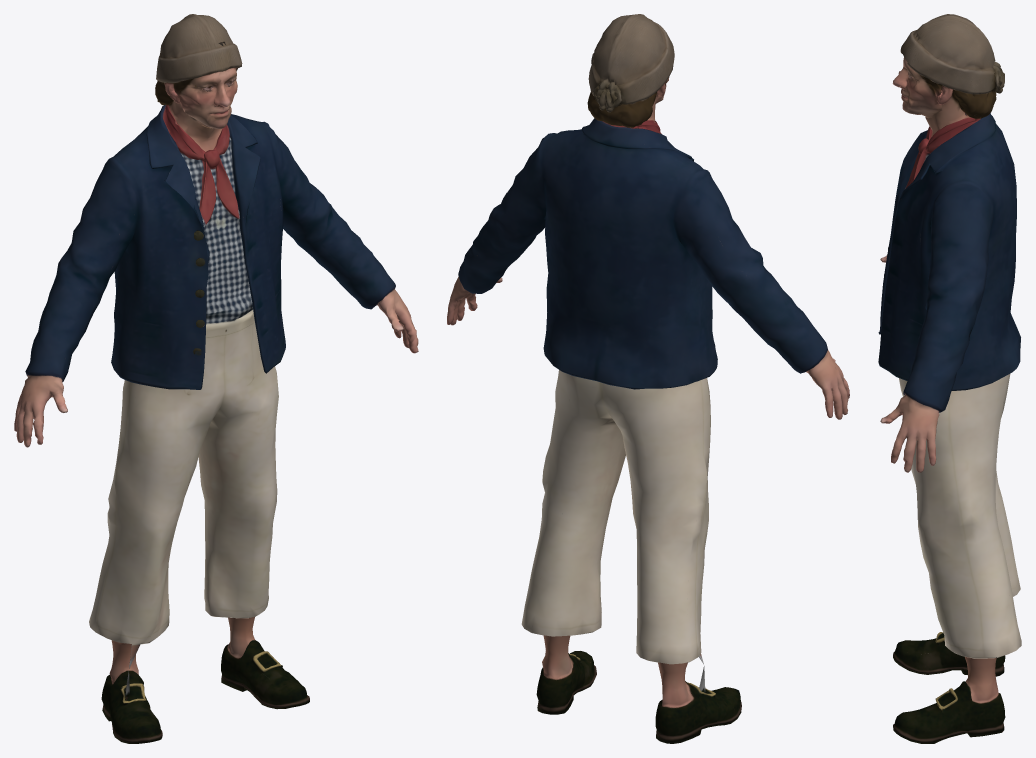
Rendered from seaman_textured.glb.
3 views of the same model, side by side, from view 1: azimuth 30°, elevation 25°; view 2: azimuth 150°, elevation 25°; view 3: azimuth 270°, elevation 25° (orthographic).
Visible parts, largest first — view 1: geometry_0; view 2: geometry_0; view 3: geometry_0.
Part boxes in pixels (x1=…): geometry_0: x1=14, y1=14, x2=418, y2=743; geometry_0: x1=447, y1=14, x2=849, y2=743; geometry_0: x1=878, y1=14, x2=1021, y2=743.
Bounding box in the file's own units: 0.563 × 0.9507 × 0.1802.
Materials: 1 (1 with a texture image).
